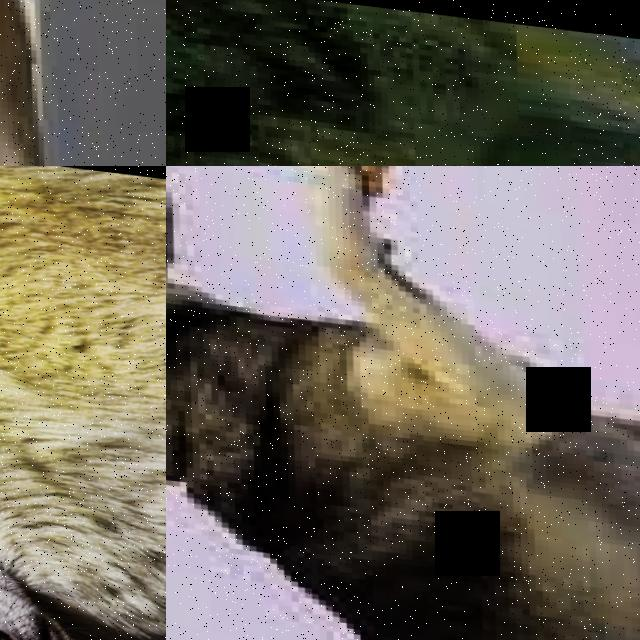dog: (166, 166, 640, 640), (0, 0, 166, 166)
wolf: (166, 0, 640, 166), (0, 166, 166, 640), (166, 96, 640, 166)
